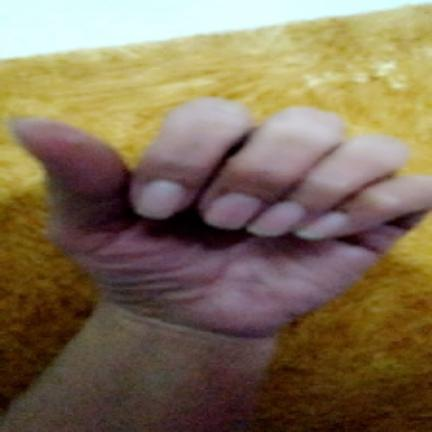Nail: (203, 193, 262, 230), (247, 201, 305, 237), (136, 181, 185, 219), (295, 212, 348, 240)
